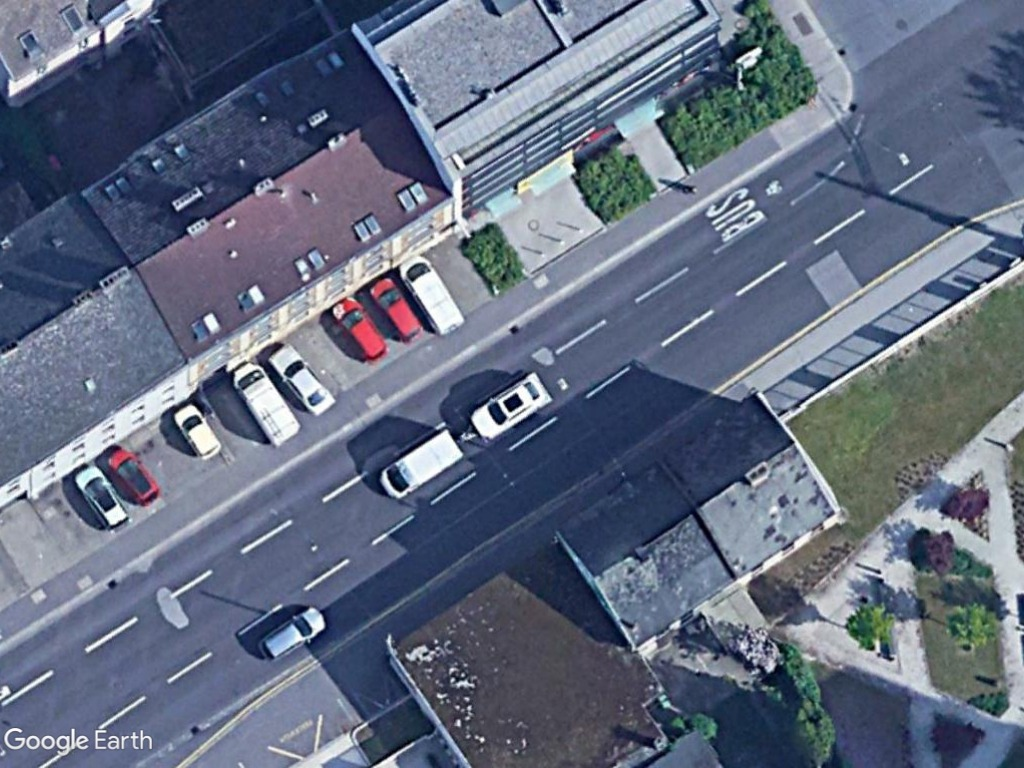car: (467, 370, 552, 441), (266, 343, 339, 416), (327, 294, 393, 366), (68, 464, 134, 532), (256, 603, 330, 662), (368, 275, 425, 344), (104, 446, 162, 508), (173, 402, 226, 464)
van: (376, 427, 466, 501), (228, 361, 304, 448), (399, 253, 470, 341)
